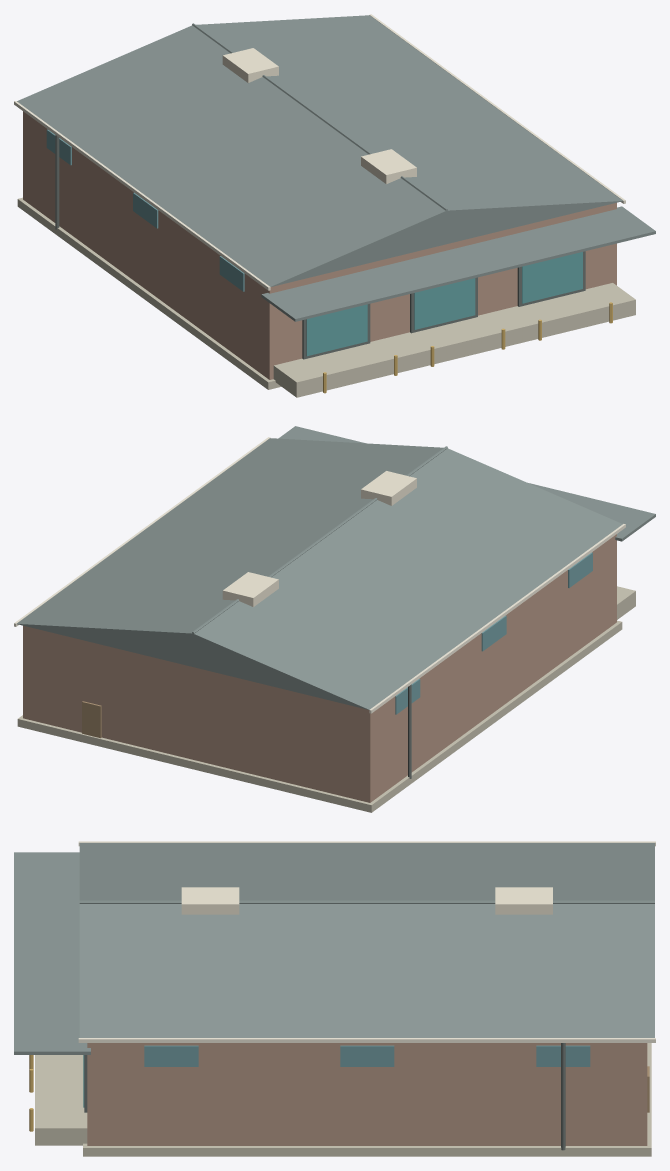
3 views of the same model, one above another, from view 1: azimuth 30°, elevation 25°; view 2: azimuth 150°, elevation 25°; view 3: azimuth 270°, elevation 25° (orthographic). The views are drawn at different scales.
Bounding box in the file's own units: 27 × 10.28 × 36.7.
